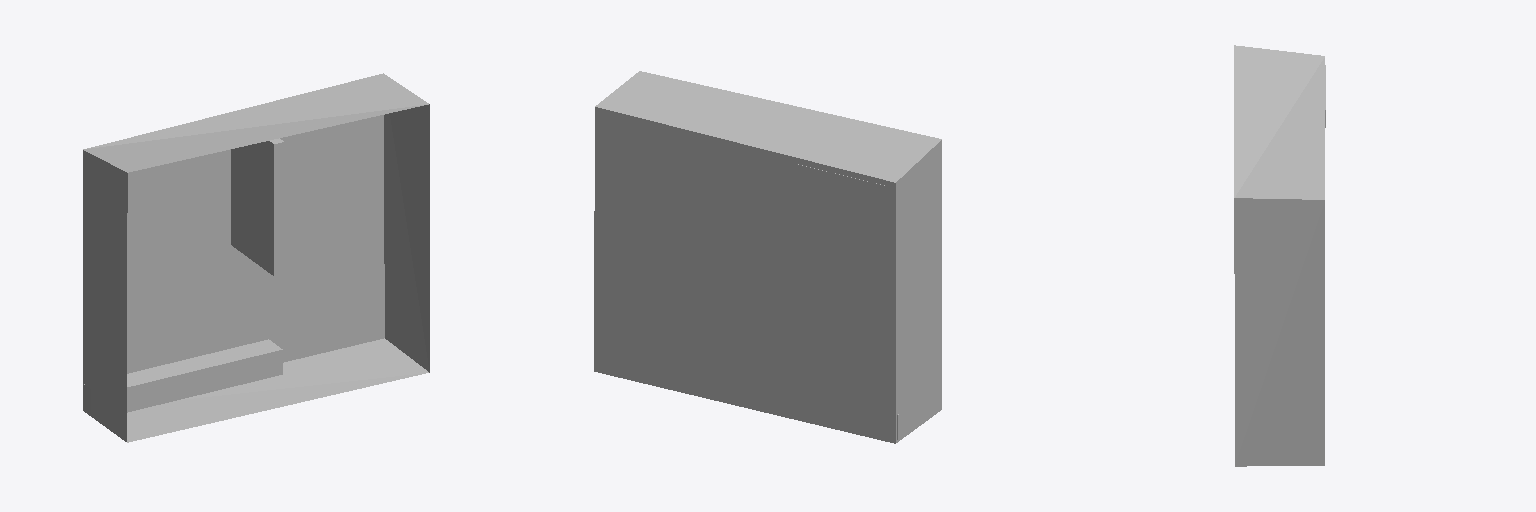
File: rm3038_pt_cloud_2.obj
The picture shows the model from 3 angles: view 1: azimuth 30°, elevation 25°; view 2: azimuth 150°, elevation 25°; view 3: azimuth 270°, elevation 25°; orthographic projection.
Parts seen in each view (by area): view 1: Plane; view 2: Plane; view 3: Plane.
Boxes of the visible parts, <box> form: Plane: <box>83,73,429,442</box>; Plane: <box>594,71,941,443</box>; Plane: <box>1234,45,1325,466</box>.
Size of the model in its own units: 10.25 by 8.84 by 2.69.